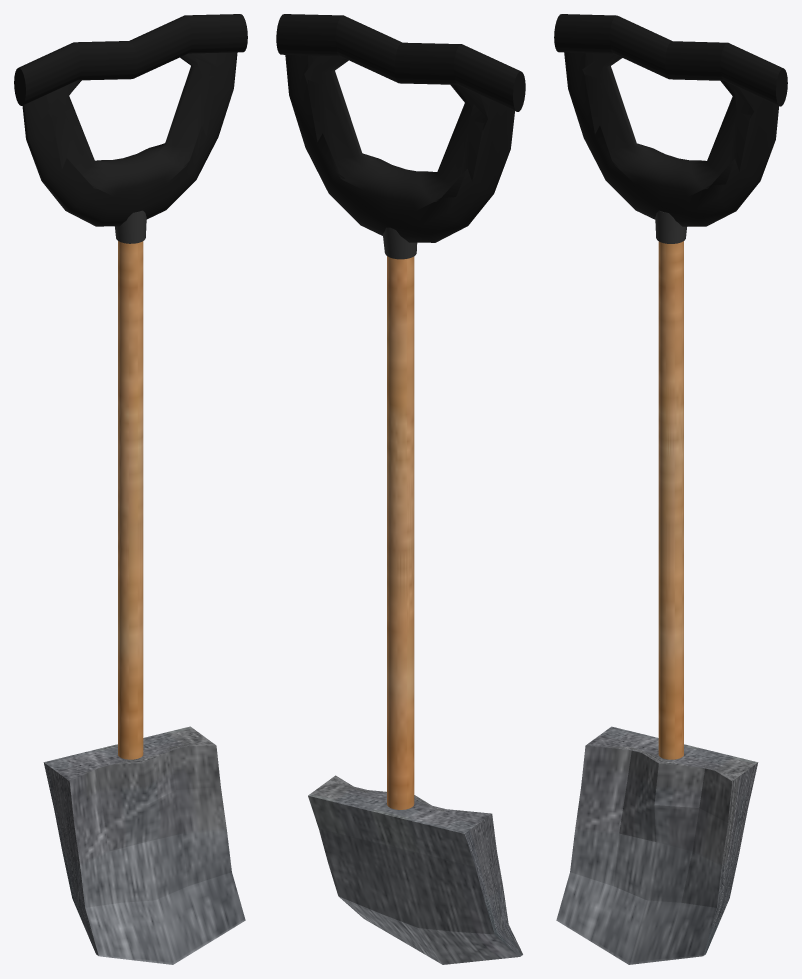
File: David_shovel.fbx
3 views of the same model, side by side, from view 1: azimuth 30°, elevation 25°; view 2: azimuth 150°, elevation 25°; view 3: azimuth 330°, elevation 25° (orthographic). The views are drawn at different scales.
Visible parts, largest first — view 1: pCube1, pTorus1, pCylinder1, pCylinder2, pCylinder3; view 2: pCube1, pTorus1, pCylinder1, pCylinder2, pCylinder3; view 3: pCube1, pTorus1, pCylinder1, pCylinder2, pCylinder3.
Boxes of the visible parts, left/top/right/bottom form: pCube1: left=43, top=726, right=245, bottom=964; pTorus1: left=22, top=52, right=237, bottom=226; pCylinder1: left=118, top=241, right=143, bottom=759; pCylinder2: left=14, top=14, right=247, bottom=105; pCylinder3: left=115, top=210, right=146, bottom=243; pCube1: left=308, top=775, right=522, bottom=964; pTorus1: left=285, top=55, right=514, bottom=242; pCylinder1: left=387, top=256, right=414, bottom=809; pCylinder2: left=276, top=14, right=525, bottom=111; pCylinder3: left=383, top=227, right=417, bottom=259; pCube1: left=556, top=726, right=758, bottom=964; pTorus1: left=564, top=52, right=778, bottom=226; pCylinder1: left=658, top=241, right=683, bottom=759; pCylinder2: left=554, top=14, right=787, bottom=106; pCylinder3: left=655, top=211, right=686, bottom=243.
Bounding box in the file's own units: 1.51 × 5.89 × 0.6604.
5 materials, 2 textured.
